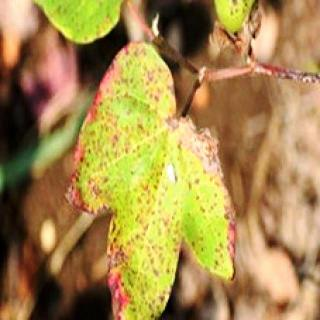leaf spot: (65, 36, 239, 320)
